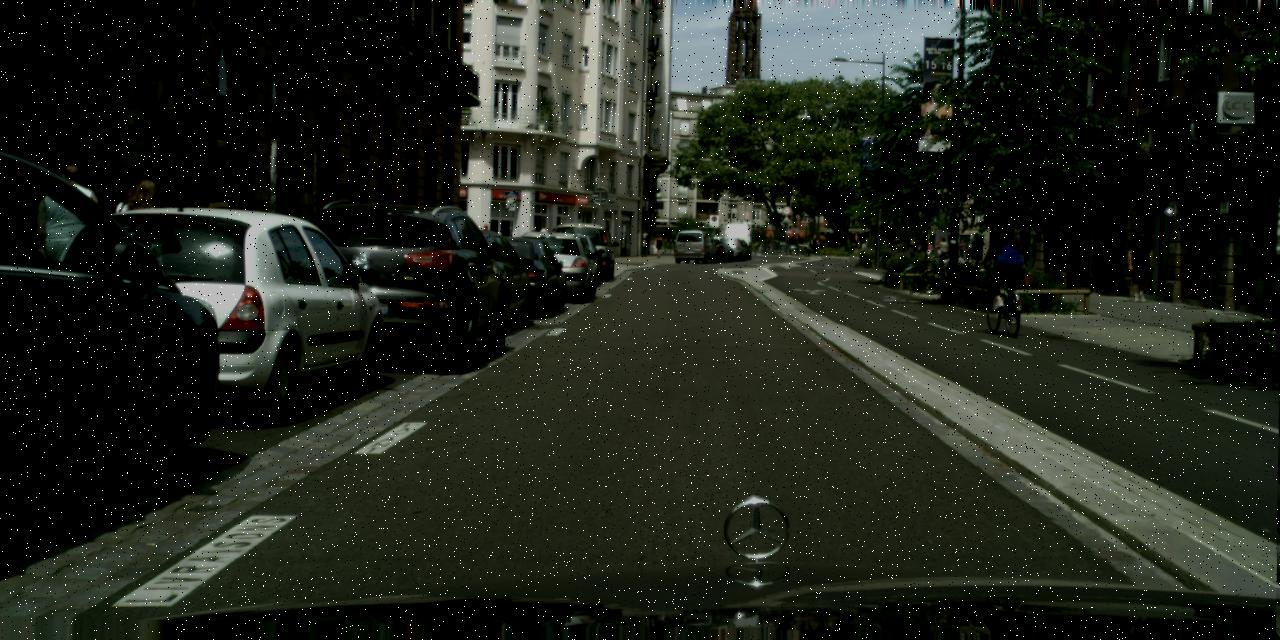ped: (38, 164, 99, 314), (110, 180, 170, 326), (987, 220, 1024, 314), (1124, 229, 1154, 302), (536, 227, 550, 261), (525, 227, 538, 259), (479, 223, 492, 254), (654, 234, 663, 258), (938, 237, 947, 259), (959, 239, 966, 257), (811, 234, 817, 250)
